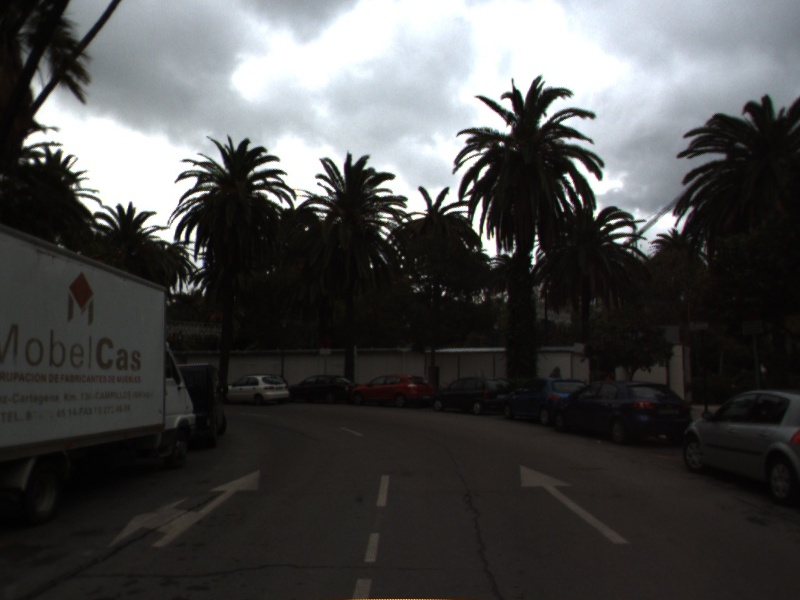STRAIGHT: (518, 462, 630, 546)
STRAIGHT_LEFT: (106, 468, 261, 551)
